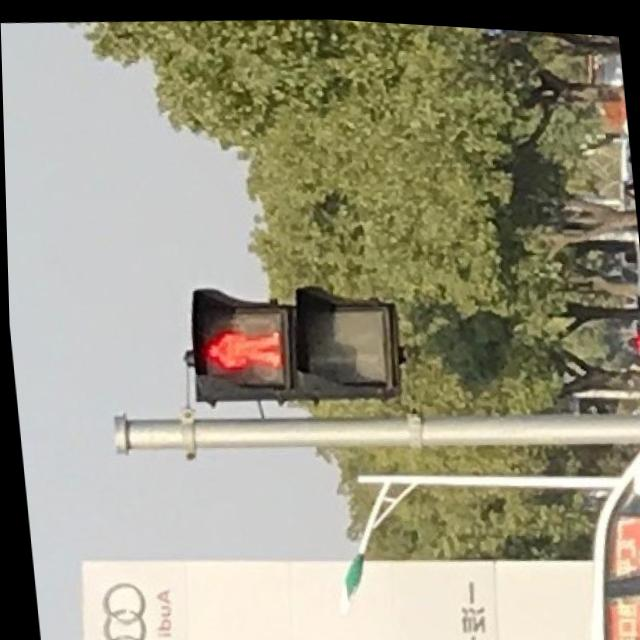red_light: (184, 295, 290, 391)
